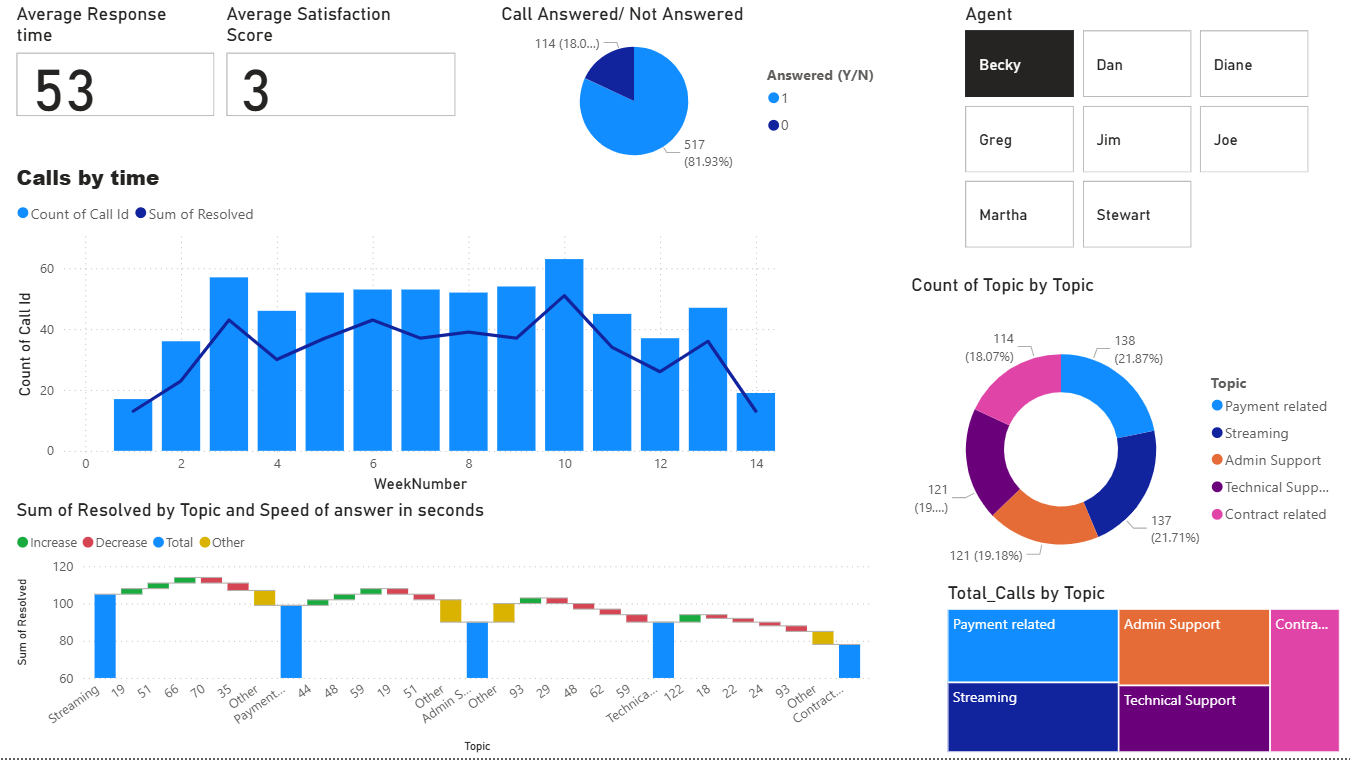

What the dashboard file says about the page in this screenshot:
{"tool":"powerbi","page":{"name":"Page 1","canvas":[1280,720],"ordinal":0},"visuals":[{"type":"cardVisual","title":"Average Satisfaction Score","fields":{"Data":["Key Measure.OverallSatisfaction"]},"box":[223.9,17.6,223.9,111.2],"z":0},{"type":"lineClusteredColumnComboChart","title":"Calls by time ","fields":{"Y":["Sheet1.Call Id"],"Y2":["Sheet1.Resolved"],"Category":["Sheet1.WeekNumber"]},"box":[29.3,166.8,717.1,311.7],"z":1000},{"type":"cardVisual","title":"Average Response time","fields":{"Data":["Key Measure.Avgspeed"]},"box":[29.3,17.6,194.6,111.2],"z":2000},{"type":"pieChart","title":"Call Answered/ Not Answered","fields":{"Category":["Sheet1.Answered (Y/N)"],"Y":["Sheet1.Call Id"]},"box":[480,17.6,371.7,162.4],"z":3000},{"type":"advancedSlicerVisual","fields":{"Values":["Sheet1.Agent"]},"box":[911.7,17.6,329.3,235.6],"z":4000},{"type":"donutChart","fields":{"Category":["Sheet1.Topic"],"Y":["Sheet1.Topic"]},"box":[862,269.3,408.3,305.9],"z":5000},{"type":"waterfallChart","fields":{"Y":["Sheet1.Resolved"],"Category":["Sheet1.Topic"],"Breakdown":["Sheet1.Speed of answer in seconds"]},"box":[29.3,478.5,804.9,241.5],"z":6000},{"type":"treemap","fields":{"Group":["Sheet1.Topic"],"Values":["Sheet1.Total_Calls"]},"box":[895.6,556.1,374.6,163.9],"z":7000}]}

Visuals, with their boxes in screenshot pixels (x1, y1, x2, y2), scaled from the page's 1280x720 canvas onto the 1350x766 screenshot:
"Average Satisfaction Score" cardVisual: 236, 19, 472, 137
"Calls by time " lineClusteredColumnComboChart: 31, 177, 787, 509
"Average Response time" cardVisual: 31, 19, 236, 137
"Call Answered/ Not Answered" pieChart: 506, 19, 898, 192
advancedSlicerVisual - Sheet1.Agent: 962, 19, 1309, 269
donutChart - Sheet1.Topic x Sheet1.Topic: 909, 287, 1340, 612
waterfallChart - Sheet1.Resolved x Sheet1.Topic: 31, 509, 880, 765
treemap - Sheet1.Topic x Sheet1.Total_Calls: 945, 592, 1340, 765
